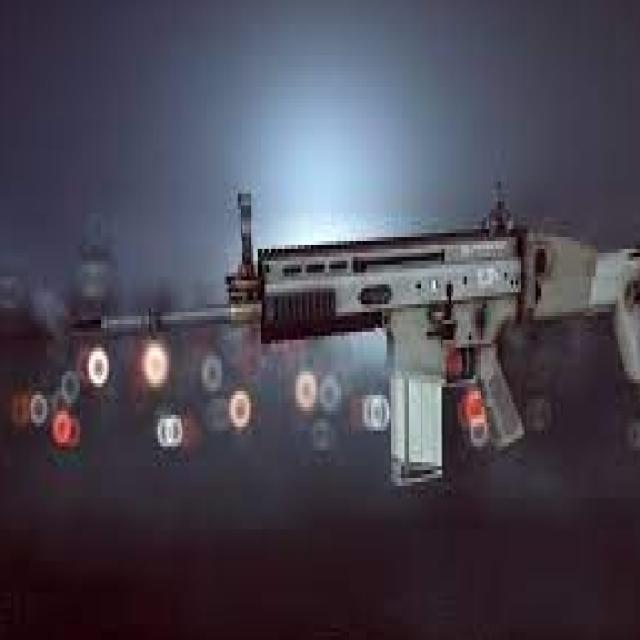Gun: (51, 190, 640, 510)
